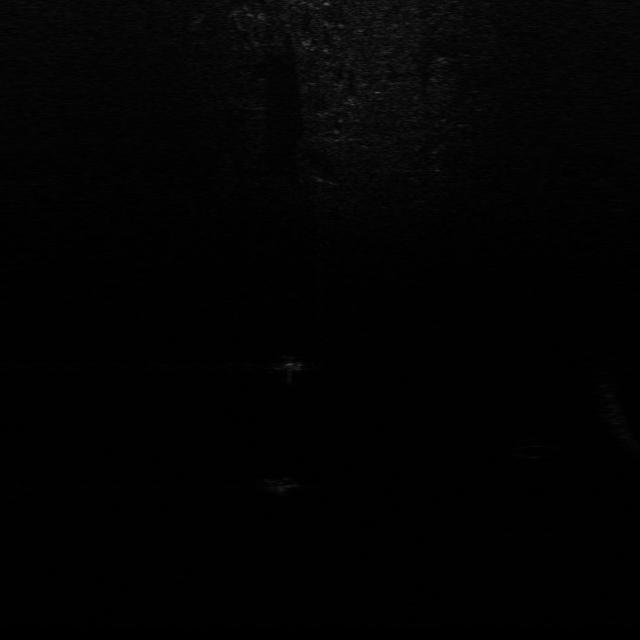cube: (258, 473, 301, 494)
square cage: (270, 350, 310, 376)
tyre: (506, 430, 563, 461)
